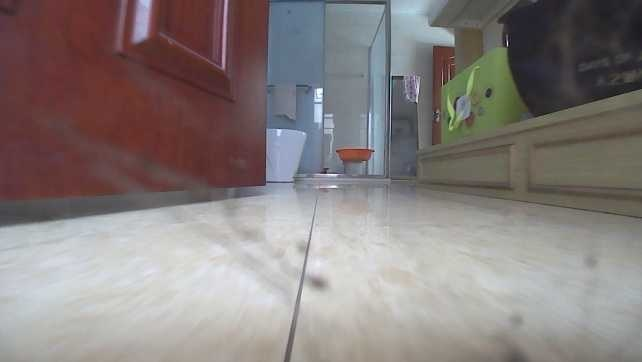toilet: (265, 122, 310, 183)
